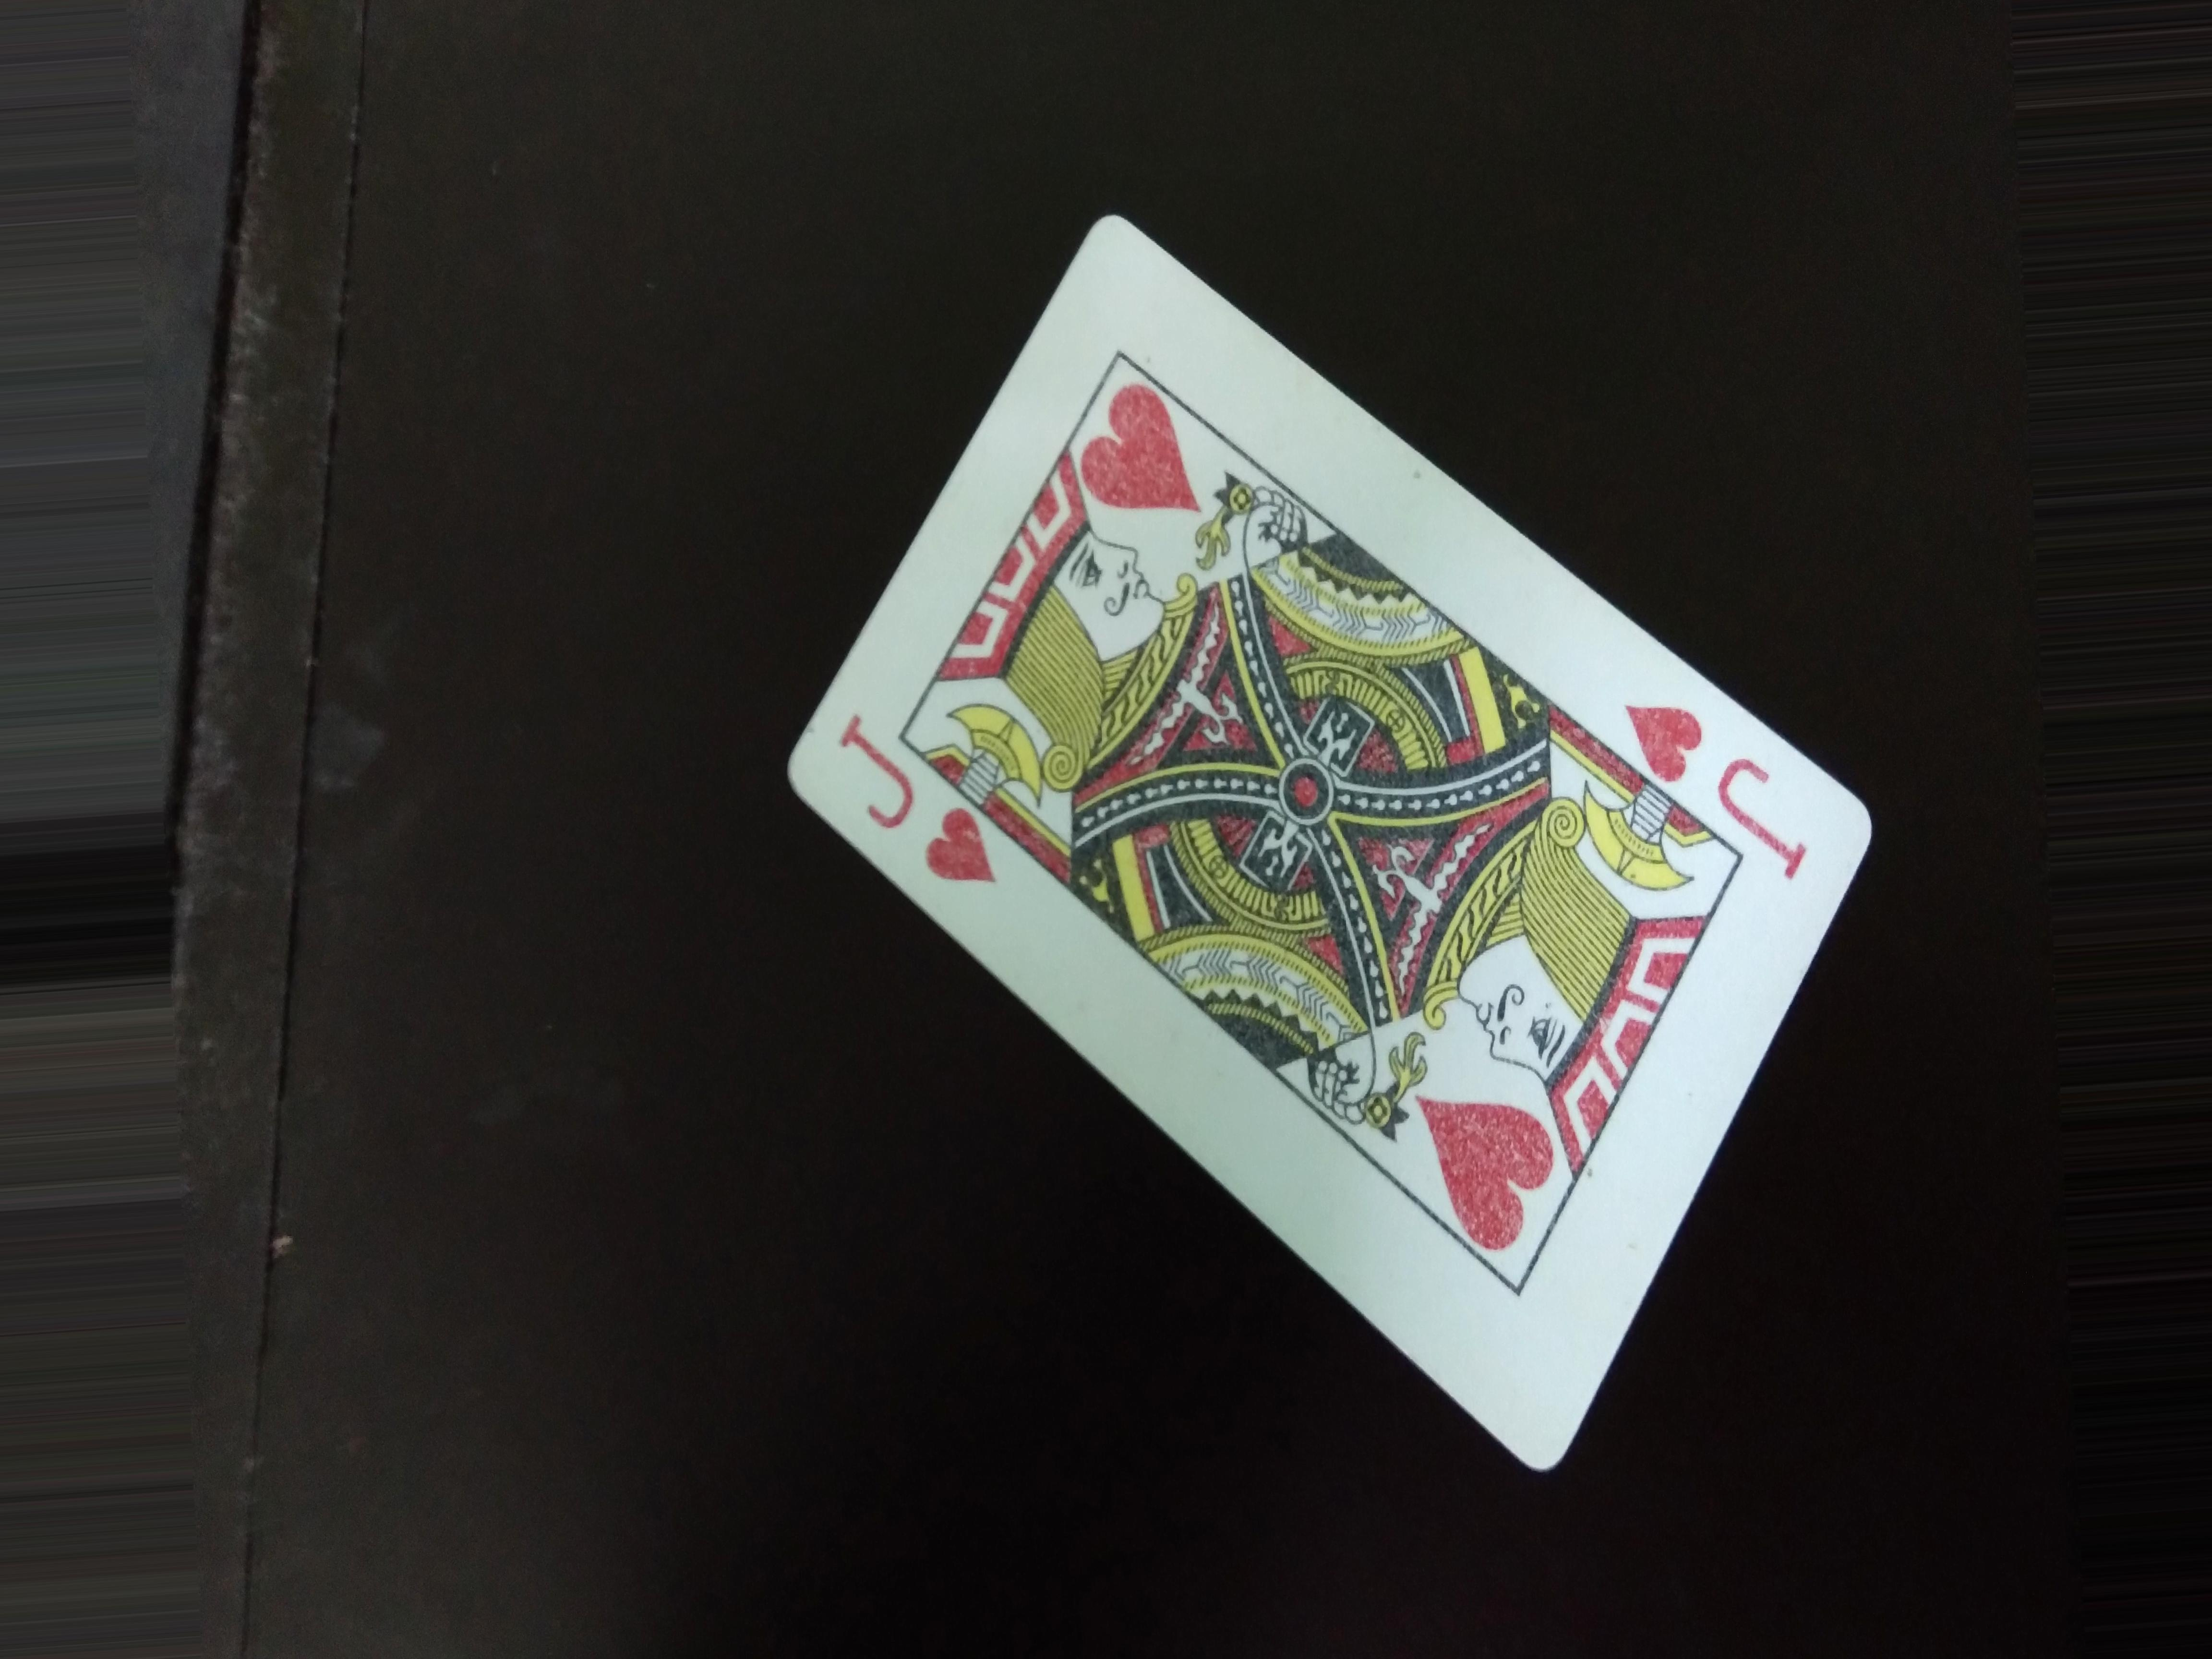JH: (1608, 683, 1806, 884)
